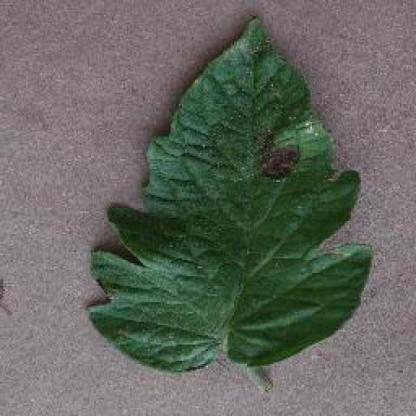Tomato_Blight: (87, 17, 372, 371)
